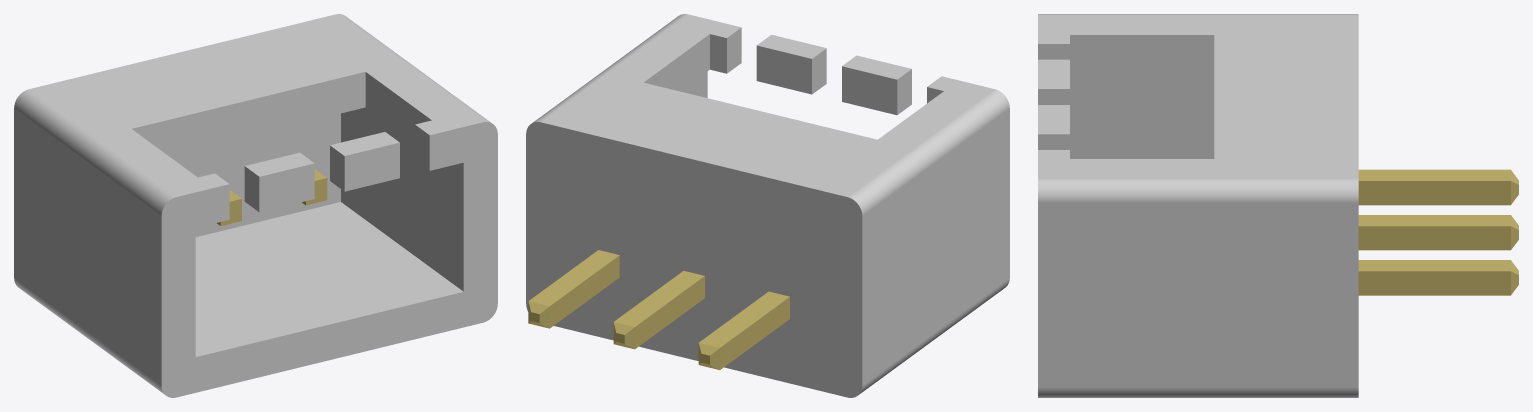
Rendered from jst_ph_3pin.glb.
3 views of the same model, side by side, from view 1: azimuth 30°, elevation 25°; view 2: azimuth 150°, elevation 25°; view 3: azimuth 270°, elevation 25° (orthographic). The views are drawn at different scales.
Parts seen in each view (by area): view 1: world; view 2: world; view 3: world.
Part boxes in pixels (<box>): world: <box>14,14,497,397</box>; world: <box>526,14,1009,397</box>; world: <box>1038,14,1518,397</box>.
Size of the model in its own units: 7.9 by 4.5 by 9.
